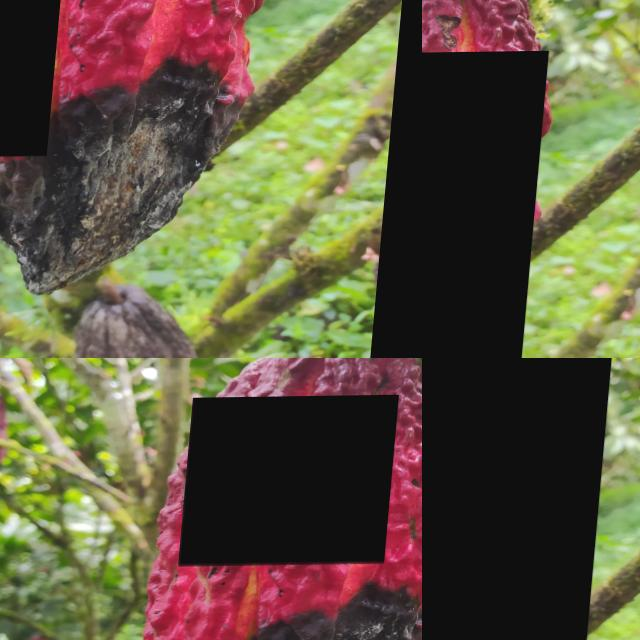Fitoftora: (422, 358, 618, 640), (422, 52, 552, 358), (184, 397, 402, 567)
